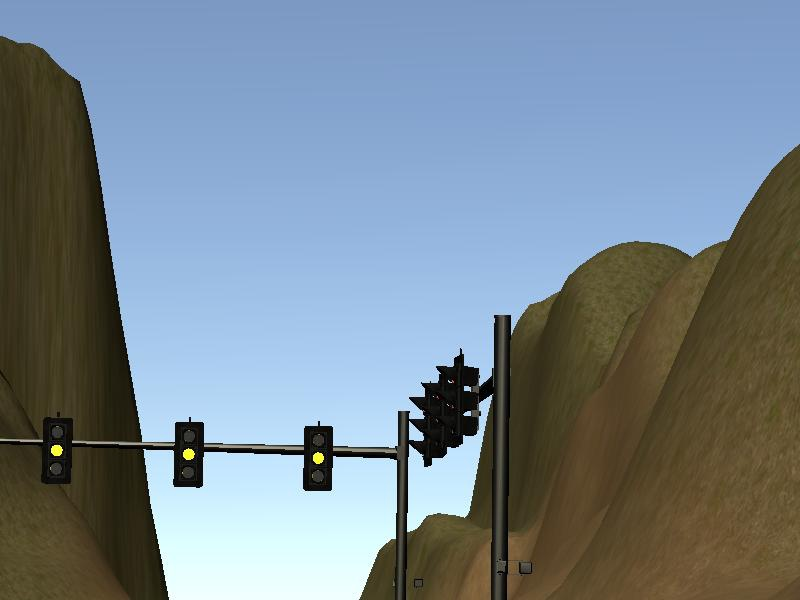yellow_light: (305, 428, 334, 491), (43, 418, 71, 481), (175, 423, 203, 485)
